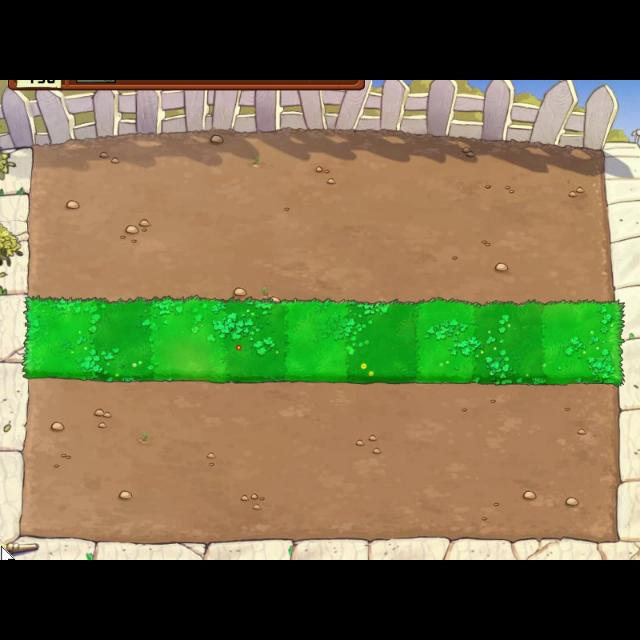Garden: (23, 293, 624, 389)
